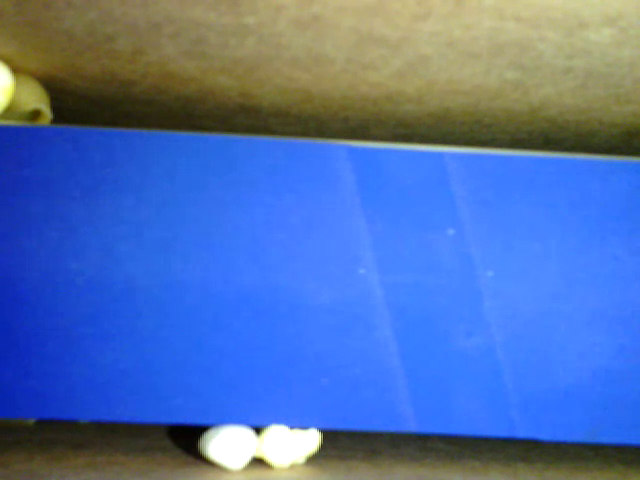shell: (2, 70, 53, 129)
